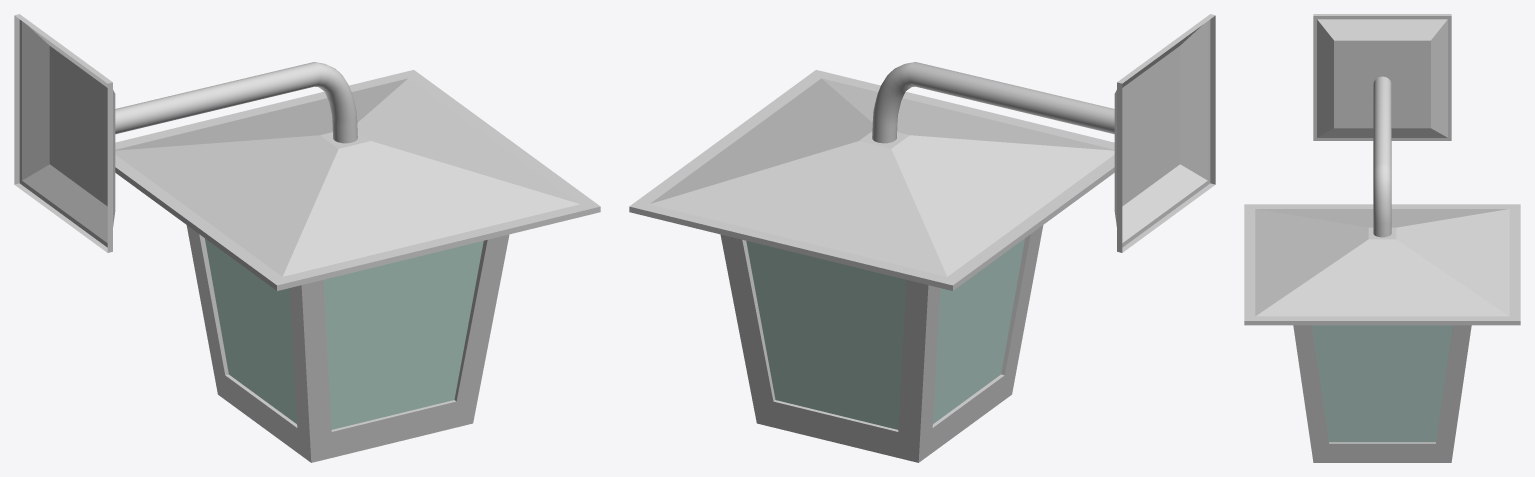
The model's file is MESH_ENV(Arandela_01).fbx.
3 views of the same model, side by side, from view 1: azimuth 30°, elevation 25°; view 2: azimuth 150°, elevation 25°; view 3: azimuth 270°, elevation 25° (orthographic). The views are drawn at different scales.
Visible parts, largest first — view 1: MESH_ENV(Arandela_01)_LOD0; view 2: MESH_ENV(Arandela_01)_LOD0; view 3: MESH_ENV(Arandela_01)_LOD0.
Part boxes in pixels (x1,y1,x2,y2): MESH_ENV(Arandela_01)_LOD0: [14, 14, 600, 462]; MESH_ENV(Arandela_01)_LOD0: [629, 14, 1215, 462]; MESH_ENV(Arandela_01)_LOD0: [1244, 14, 1520, 462].
Size of what is drawn, in the model's own units: 41.38 by 38 by 30.
